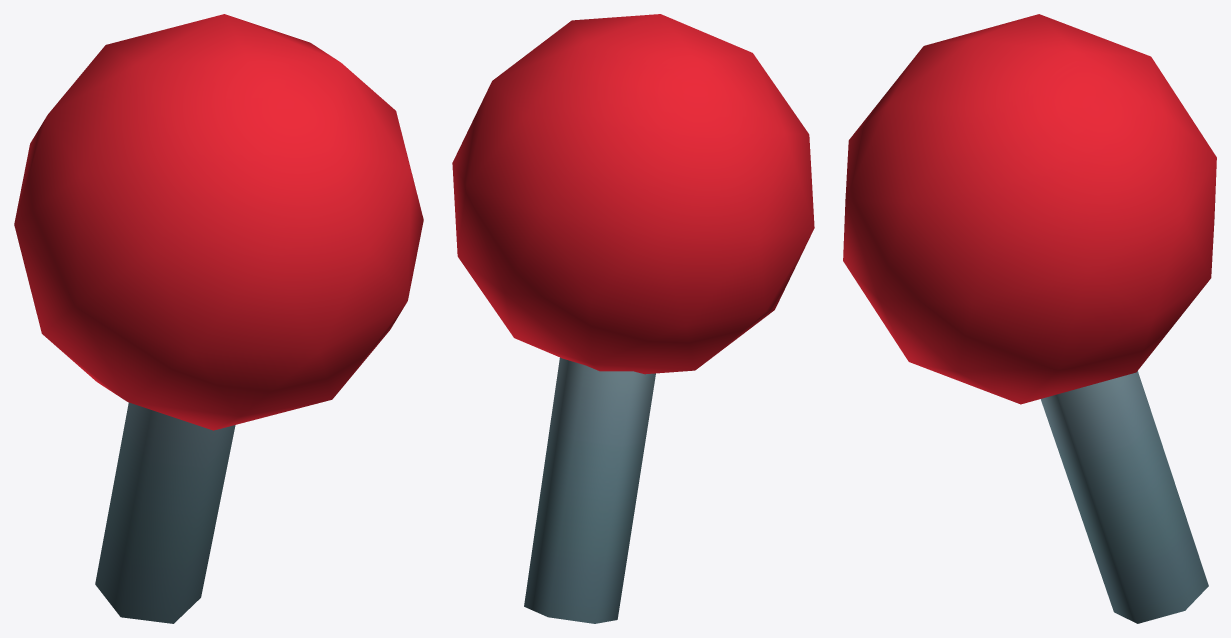
Rendered from Lever_01.fbx.
3 views of the same model, side by side, from view 1: azimuth 30°, elevation 25°; view 2: azimuth 150°, elevation 25°; view 3: azimuth 270°, elevation 25° (orthographic). The views are drawn at different scales.
Visible parts, largest first — view 1: Lever_01; view 2: Lever_01; view 3: Lever_01.
Part boxes in pixels (x1,y1,x2,y2): Lever_01: (14,14,423,623); Lever_01: (452,14,814,623); Lever_01: (843,14,1216,623).
Bounding box in the file's own units: 5.88 × 5.91 × 10.
